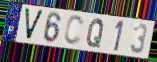1: (113, 20, 125, 53)
3: (130, 22, 148, 55)
6: (42, 11, 63, 45)
C: (63, 14, 86, 47)
Q: (85, 18, 106, 50)
V: (23, 7, 45, 43)
